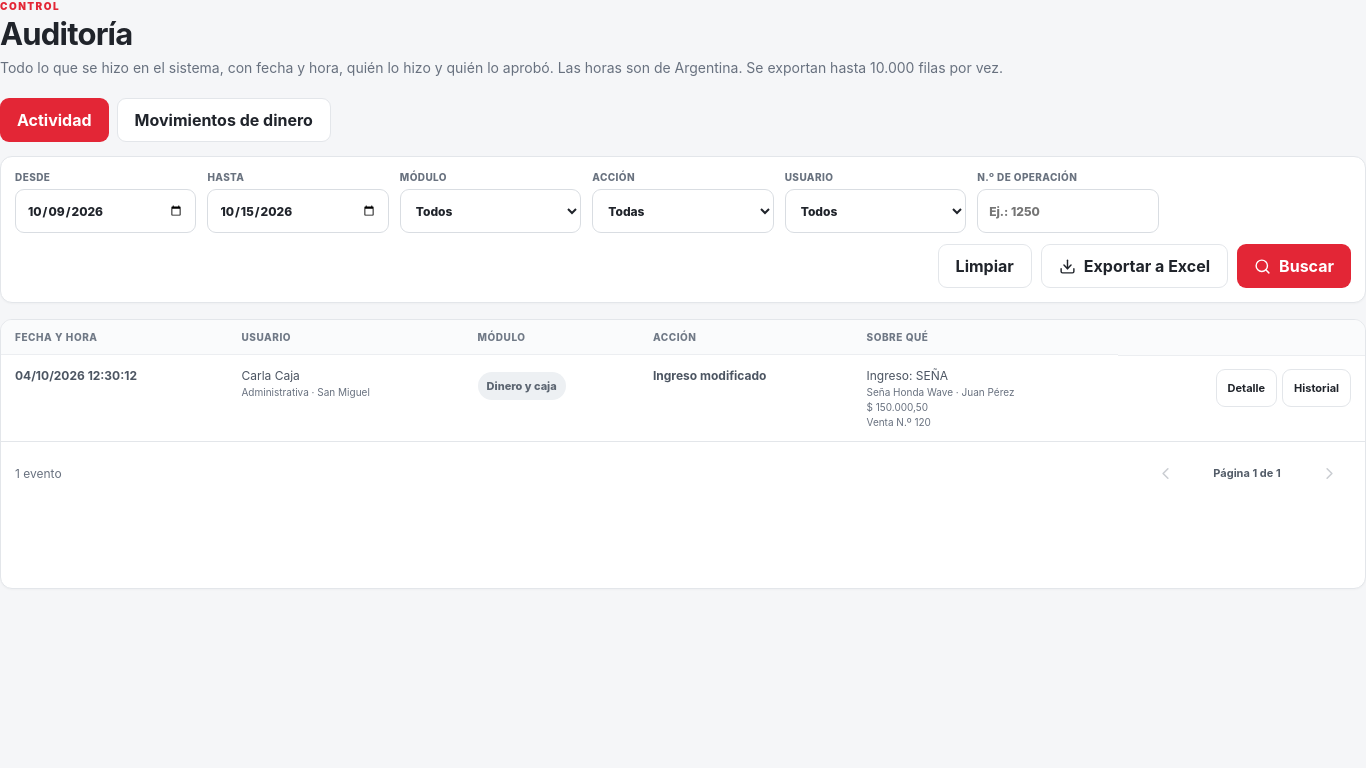
Test: AuditPage › opens the history of a sale with who requested and who approved
Step 1. Click the button with aria-label "Ver historial de la venta 120" → (1317, 388), box [1282,368,1351,406]
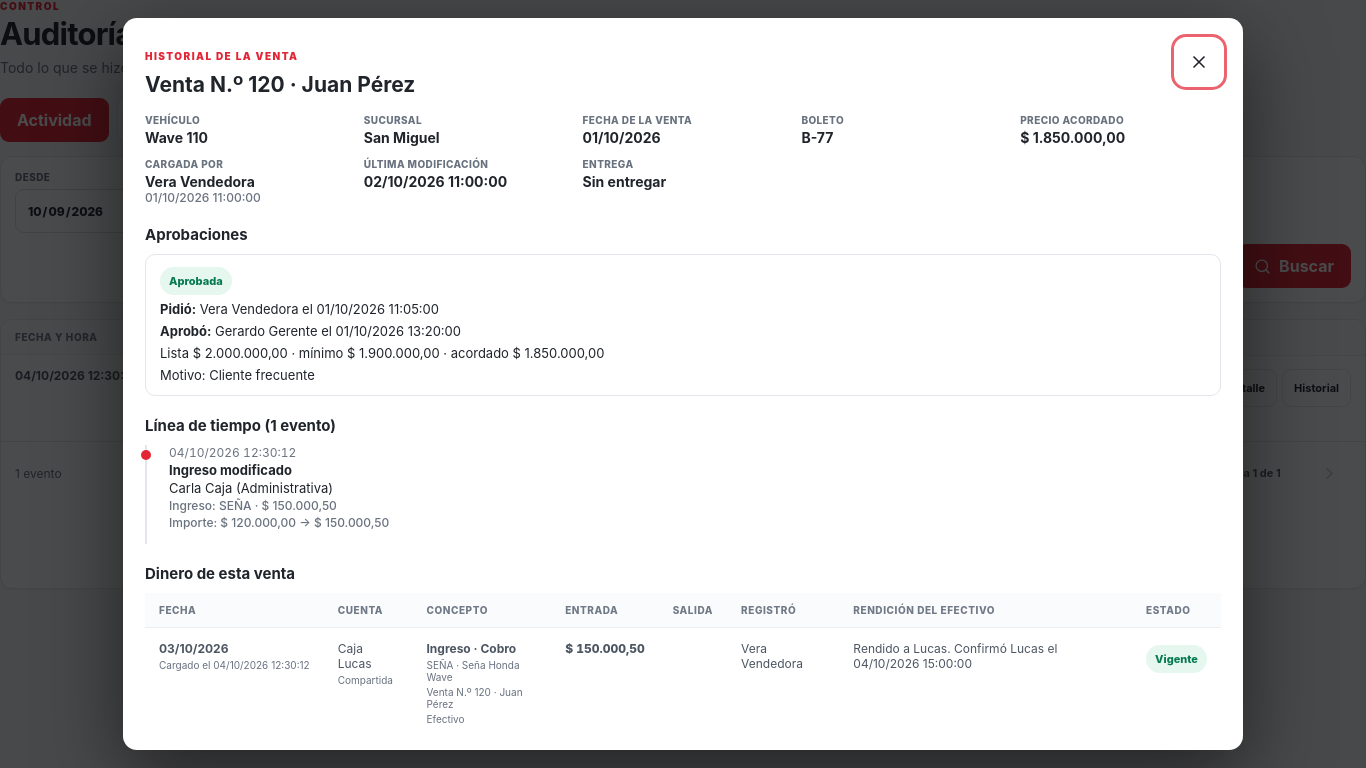
Expected: the heading "Venta N.º 120 · Juan Pérez" is shown, [145,72,415,97]
Expected: the text "Pidió: Vera Vendedora el 01/10/2026 11:05:00" is shown, [160,301,439,317]
Expected: the text "Aprobó: Gerardo Gerente el 01/10/2026 13:20:00" is shown, [160,323,461,339]
